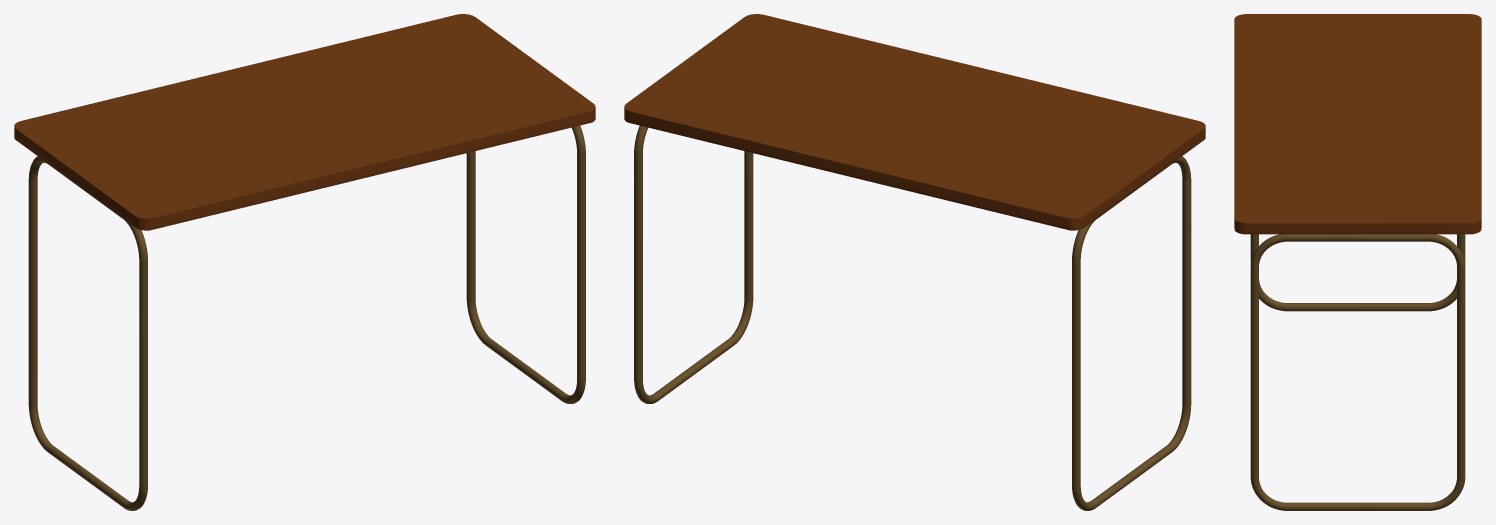
Rendered from Table1.fbx.
3 views of the same model, side by side, from view 1: azimuth 30°, elevation 25°; view 2: azimuth 150°, elevation 25°; view 3: azimuth 270°, elevation 25° (orthographic). The views are drawn at different scales.
Parts seen in each view (by area): view 1: Cube, Plane; view 2: Cube, Plane; view 3: Cube, Plane.
Part boxes in pixels (bbox=[...]): Cube: bbox=[14, 14, 595, 230]; Plane: bbox=[28, 125, 585, 510]; Cube: bbox=[624, 14, 1205, 230]; Plane: bbox=[634, 125, 1191, 510]; Cube: bbox=[1234, 14, 1481, 234]; Plane: bbox=[1250, 234, 1465, 510].
Size of the model in its own units: 150 by 97.52 by 75.19.
